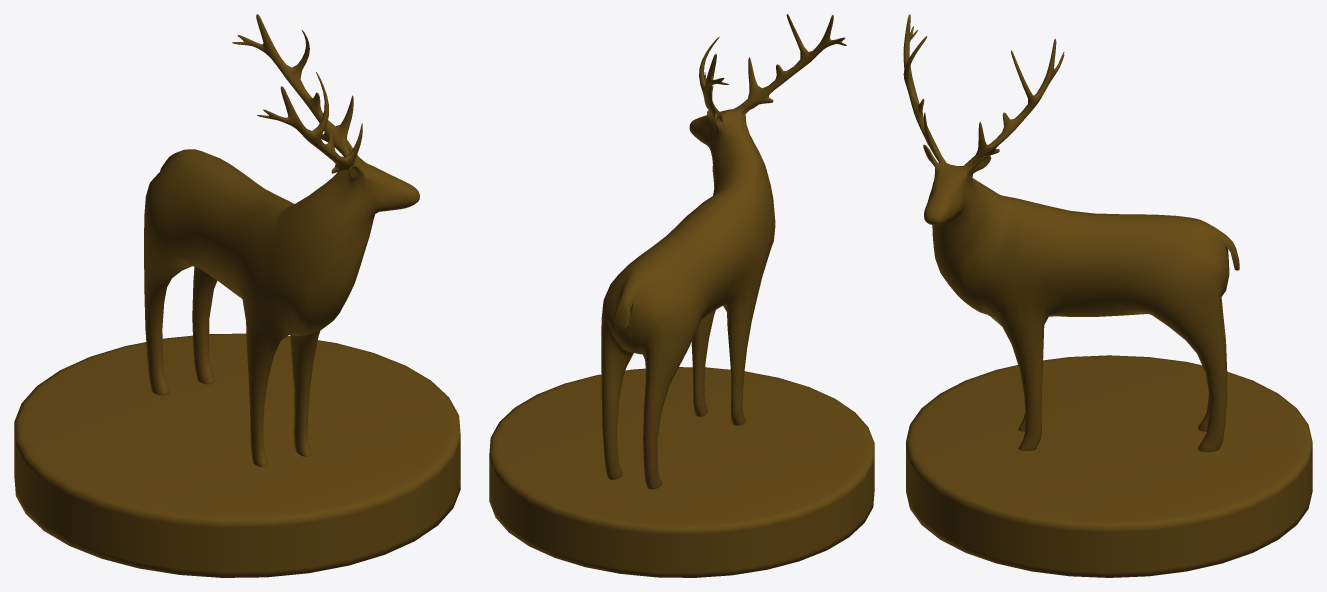
File: RedDeerStatue.fbx
3 renders of one model, left to right at view 1: azimuth 30°, elevation 25°; view 2: azimuth 150°, elevation 25°; view 3: azimuth 270°, elevation 25°, orthographic. The views are drawn at different scales.
Visible parts, largest first — view 1: Cylinder, 09deerFinal; view 2: Cylinder, 09deerFinal; view 3: Cylinder, 09deerFinal.
Boxes of the visible parts, left/top/right/bottom form: Cylinder: left=14, top=333, right=460, bottom=577; 09deerFinal: left=144, top=14, right=419, bottom=467; Cylinder: left=489, top=367, right=874, bottom=577; 09deerFinal: left=601, top=14, right=846, bottom=489; Cylinder: left=906, top=355, right=1312, bottom=577; 09deerFinal: left=903, top=14, right=1239, bottom=452.
Bounding box in the file's own units: 840 × 1029 × 845.
